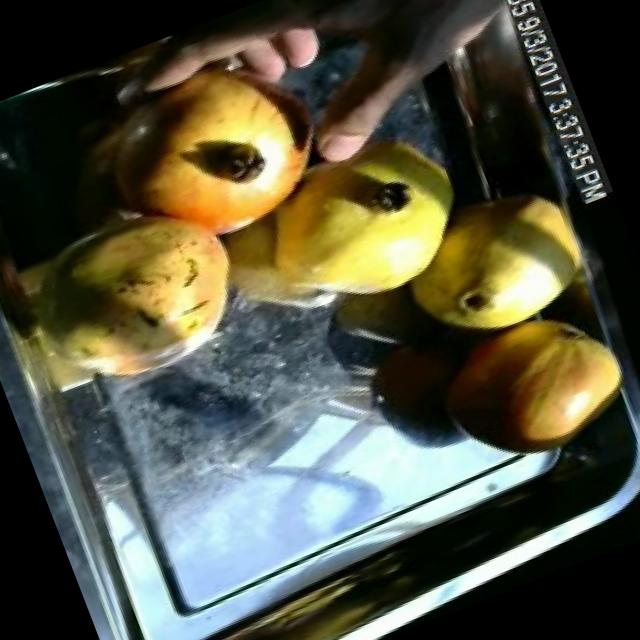fruit: (61, 12, 357, 294), (227, 96, 498, 350), (26, 176, 275, 400), (408, 284, 640, 495), (388, 158, 606, 361)
